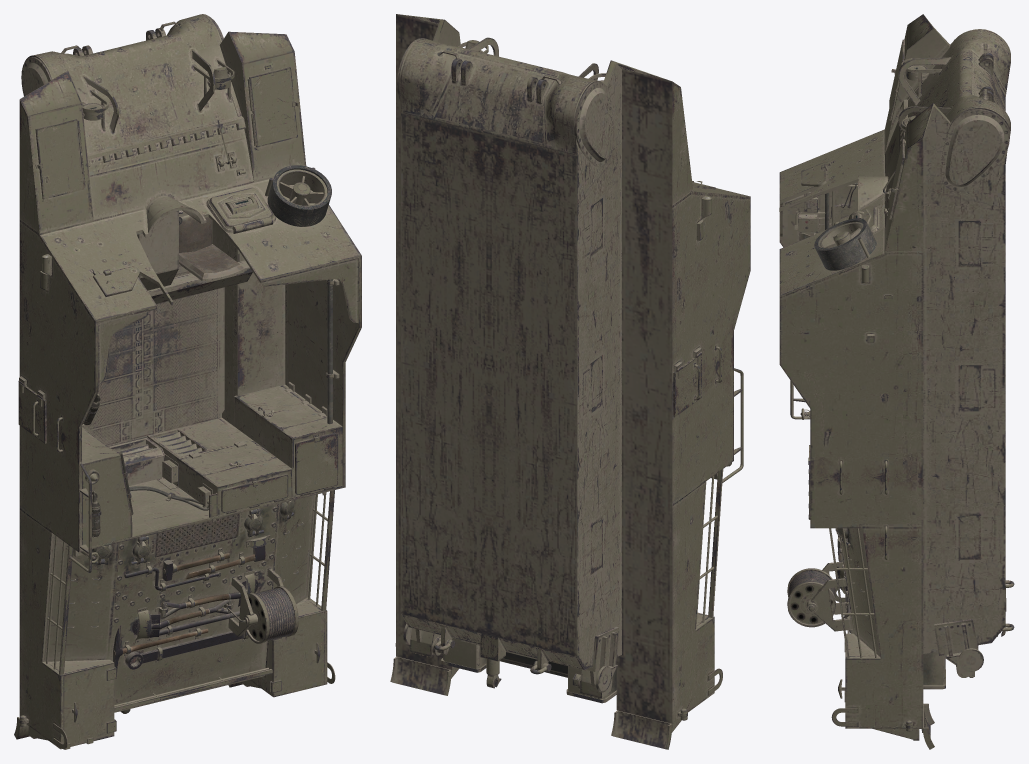
The model's file is Hull.glb.
3 renders of one model, left to right at view 1: azimuth 30°, elevation 25°; view 2: azimuth 150°, elevation 25°; view 3: azimuth 270°, elevation 25°, orthographic. The views are drawn at different scales.
Parts seen in each view (by area): view 1: set_0_group_0; view 2: set_0_group_0; view 3: set_0_group_0.
Boxes of the visible parts, x1,y1,x2,y2 form: set_0_group_0: (14,14,361,749); set_0_group_0: (390,14,750,749); set_0_group_0: (779,14,1014,749).
Bounding box in the file's own units: 2.75 × 6.11 × 2.09.
1 material, 1 textured.
